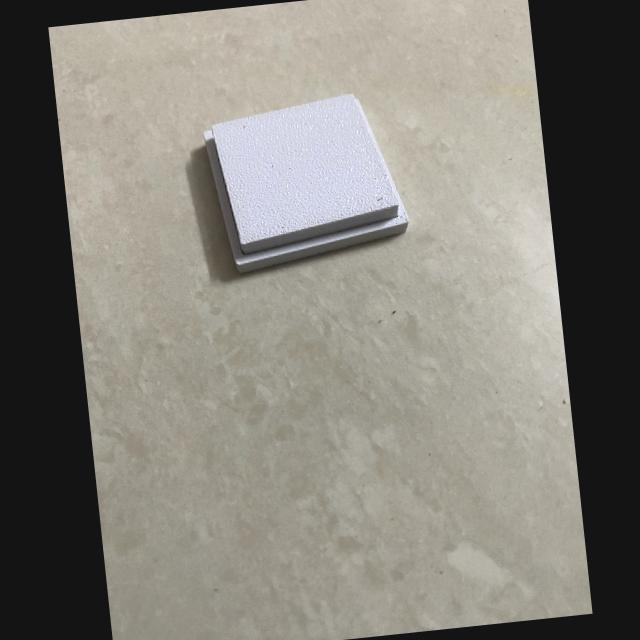RASPBERY PI CAM ENCLOSURE: (201, 88, 412, 274)
